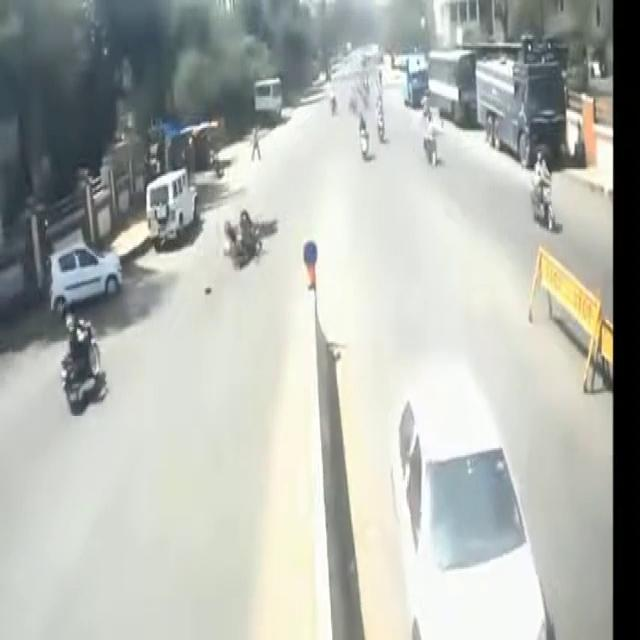accident: (212, 194, 289, 288)
